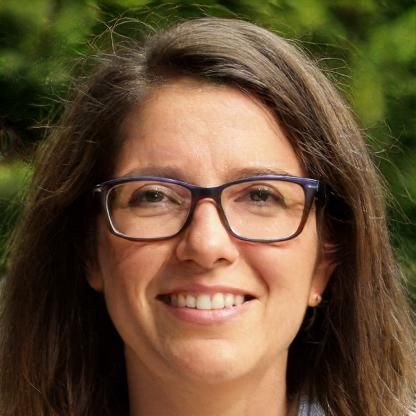glasses: (92, 172, 322, 246)
